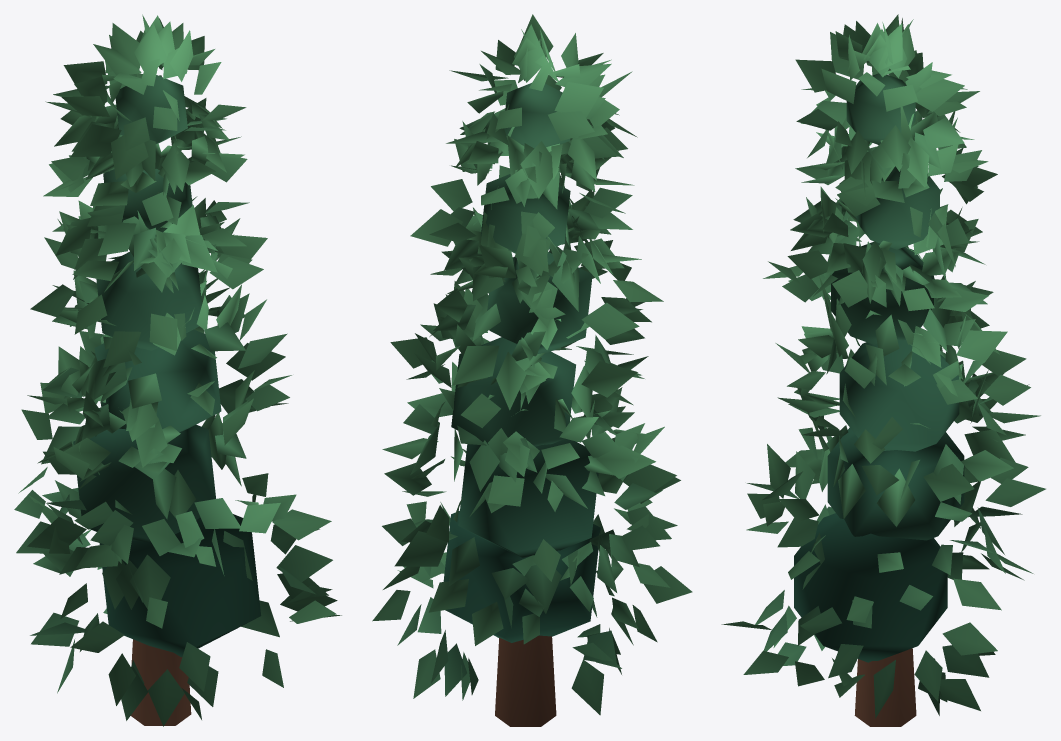
File: leafy-cypress.glb
The picture shows the model from 3 angles, left to right: view 1: azimuth 30°, elevation 25°; view 2: azimuth 150°, elevation 25°; view 3: azimuth 270°, elevation 25°; orthographic projection.
Parts seen in each view (by area): view 1: leafy-cypress; view 2: leafy-cypress; view 3: leafy-cypress.
Part boxes in pixels (<box>): leafy-cypress: <box>14,14,341,726</box>; leafy-cypress: <box>372,14,692,726</box>; leafy-cypress: <box>721,14,1045,726</box>.
Size of the model in its own units: 0.335 by 0.76 by 0.3234.
